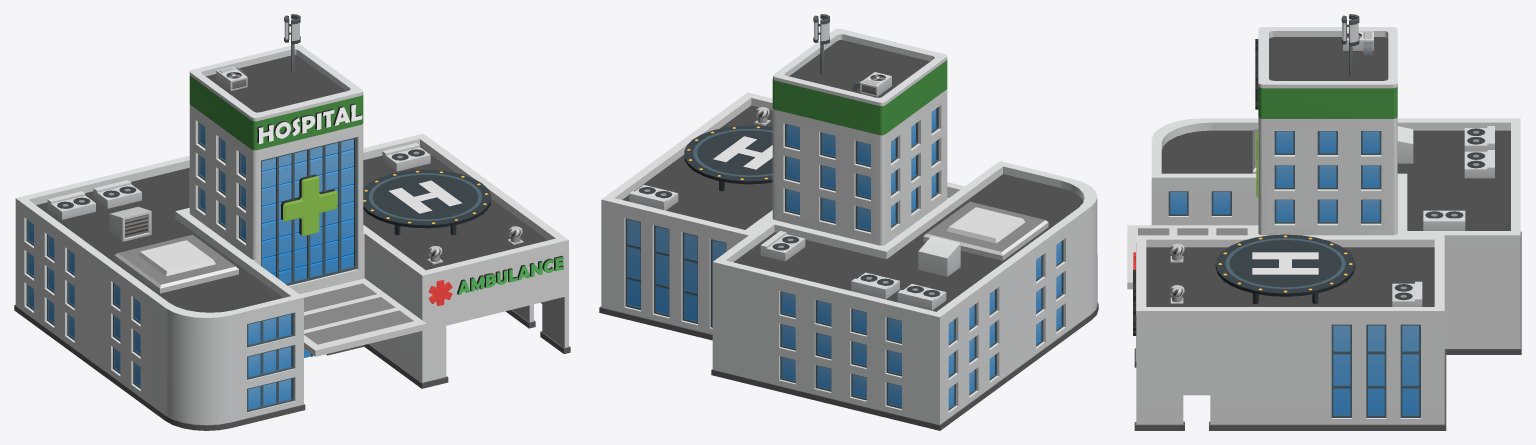
The model's file is hospital_001.glb.
3 views of the same model, side by side, from view 1: azimuth 30°, elevation 25°; view 2: azimuth 150°, elevation 25°; view 3: azimuth 270°, elevation 25° (orthographic). The views are drawn at different scales.
Visible parts, largest first — view 1: hospital_001; view 2: hospital_001; view 3: hospital_001.
Boxes of the visible parts, x1=… form: hospital_001: x1=14, y1=14, x2=570, y2=430; hospital_001: x1=599, y1=14, x2=1098, y2=430; hospital_001: x1=1127, y1=14, x2=1521, y2=430.
Bounding box in the file's own units: 42.72 × 33.11 × 36.77.
Materials: 2 (2 with a texture image).
